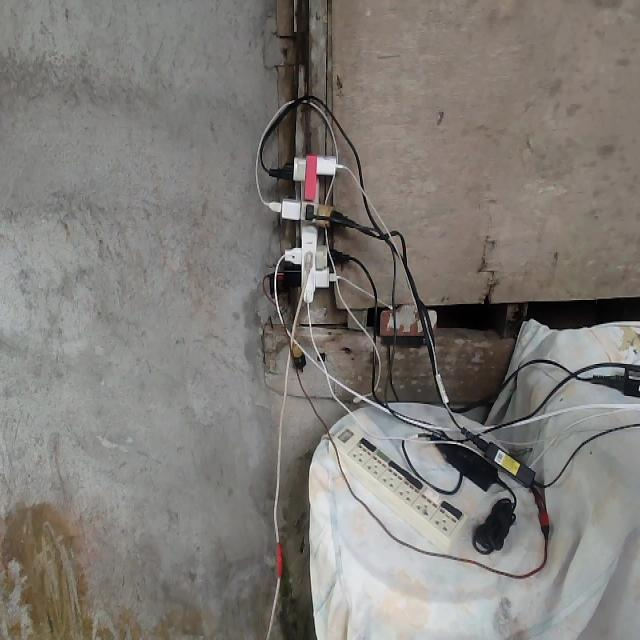-: (271, 147, 348, 308)
